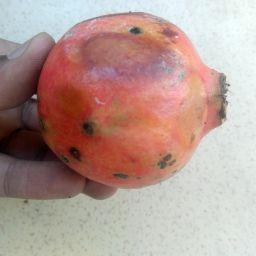pomegranate: (35, 11, 227, 190)
